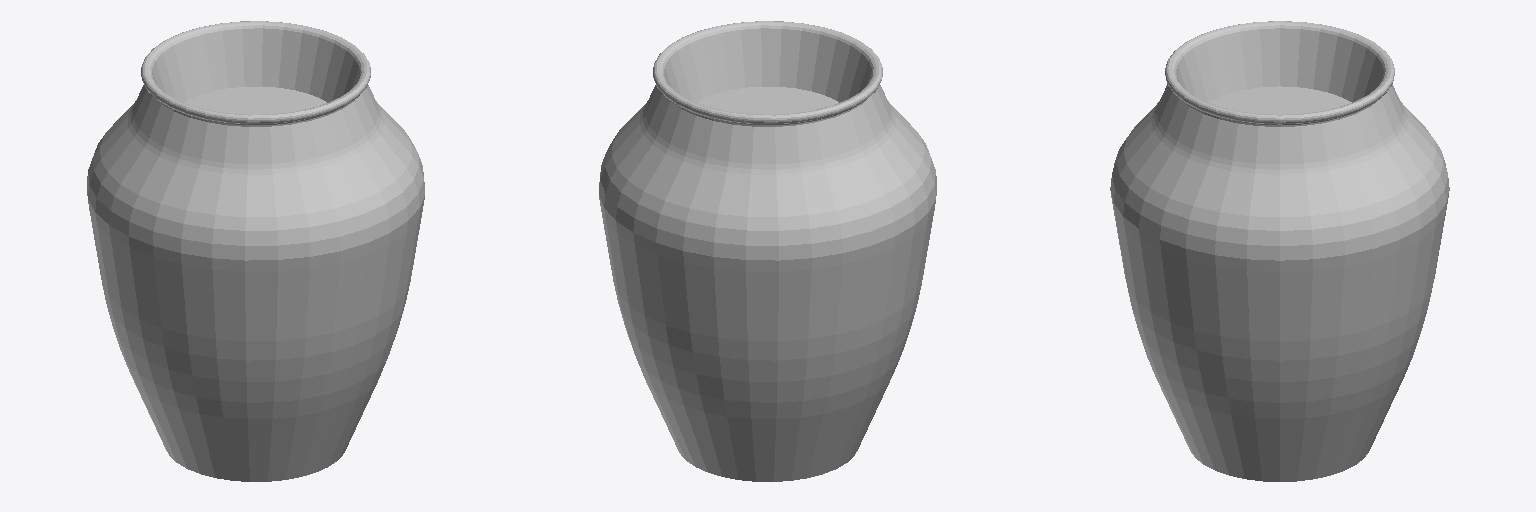
Rendered from BigPot.obj.
3 renders of one model, left to right at view 1: azimuth 30°, elevation 25°; view 2: azimuth 150°, elevation 25°; view 3: azimuth 270°, elevation 25°, orthographic.
Parts seen in each view (by area): view 1: Cylinder; view 2: Cylinder; view 3: Cylinder.
Boxes of the visible parts, x1,y1,x2,y2 form: Cylinder: [87, 21, 424, 481]; Cylinder: [599, 21, 936, 481]; Cylinder: [1110, 21, 1449, 481].
Size of the model in its own units: 2.69 by 3.28 by 2.69.